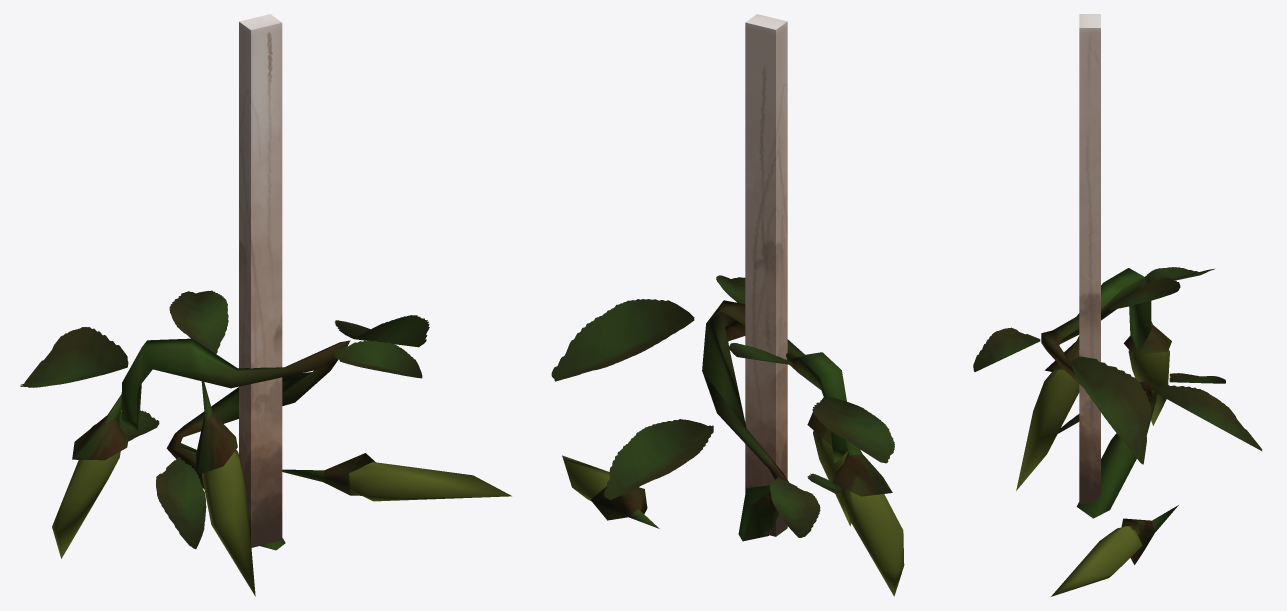
The model's file is pepper_broke.FBX.
3 renders of one model, left to right at view 1: azimuth 30°, elevation 25°; view 2: azimuth 150°, elevation 25°; view 3: azimuth 270°, elevation 25°, orthographic. The views are drawn at different scales.
Visible parts, largest first — view 1: pepper_broke; view 2: pepper_broke; view 3: pepper_broke.
Boxes of the visible parts, x1,y1,x2,y2 form: pepper_broke: (20, 14, 511, 596); pepper_broke: (551, 14, 904, 596); pepper_broke: (973, 14, 1262, 596).
Size of the model in its own units: 3.68 by 4.35 by 2.47.
1 material, 1 textured.
